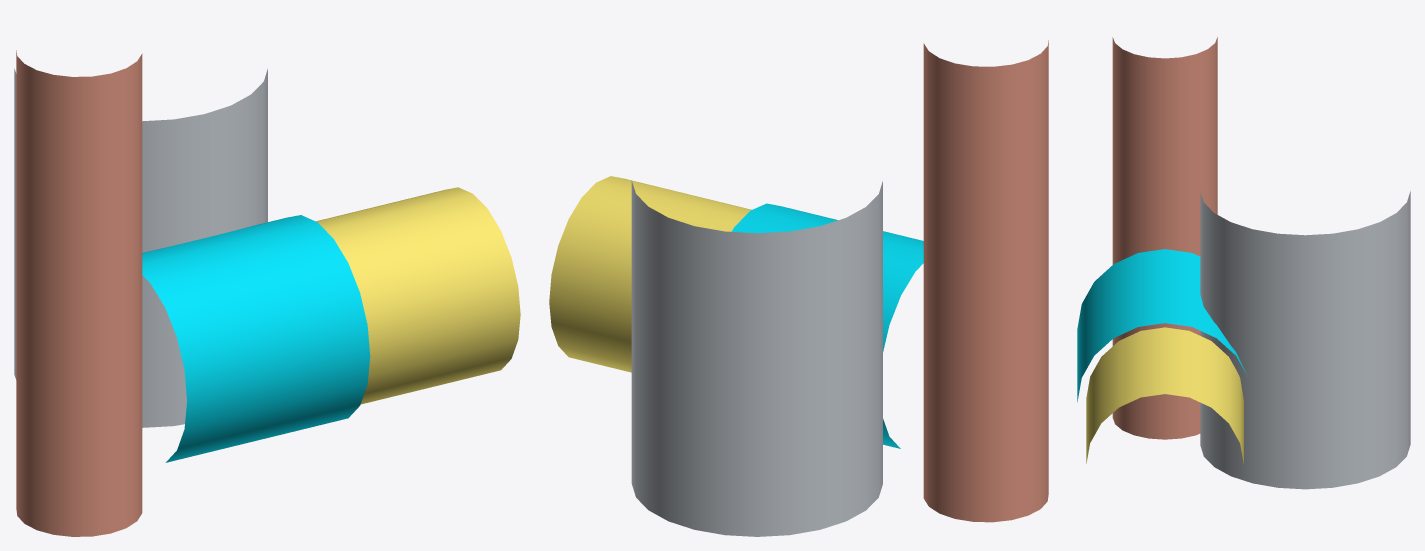
File: power_plant_engineering.glb
3 views of the same model, side by side, from view 1: azimuth 30°, elevation 25°; view 2: azimuth 150°, elevation 25°; view 3: azimuth 270°, elevation 25° (orthographic). The views are drawn at different scales.
Parts seen in each view (by area): view 1: ThermalBoilerChimney, SteamTurbineCasing, TurbineDrivenGenerator, CoolingTowerHyperboloid; view 2: CoolingTowerHyperboloid, ThermalBoilerChimney, TurbineDrivenGenerator, SteamTurbineCasing; view 3: CoolingTowerHyperboloid, ThermalBoilerChimney, TurbineDrivenGenerator, SteamTurbineCasing.
Boxes of the visible parts, <box> form: ThermalBoilerChimney: <box>16,50,142,536</box>; SteamTurbineCasing: <box>142,215,370,462</box>; TurbineDrivenGenerator: <box>316,187,520,404</box>; CoolingTowerHyperboloid: <box>14,68,267,427</box>; CoolingTowerHyperboloid: <box>631,180,882,536</box>; ThermalBoilerChimney: <box>923,40,1048,522</box>; TurbineDrivenGenerator: <box>549,176,751,372</box>; SteamTurbineCasing: <box>731,203,923,448</box>; CoolingTowerHyperboloid: <box>1200,191,1410,489</box>; ThermalBoilerChimney: <box>1112,37,1217,439</box>; TurbineDrivenGenerator: <box>1086,327,1243,464</box>; SteamTurbineCasing: <box>1077,249,1247,402</box>.
Size of the model in its own units: 2.45 by 2.4 by 1.9.
